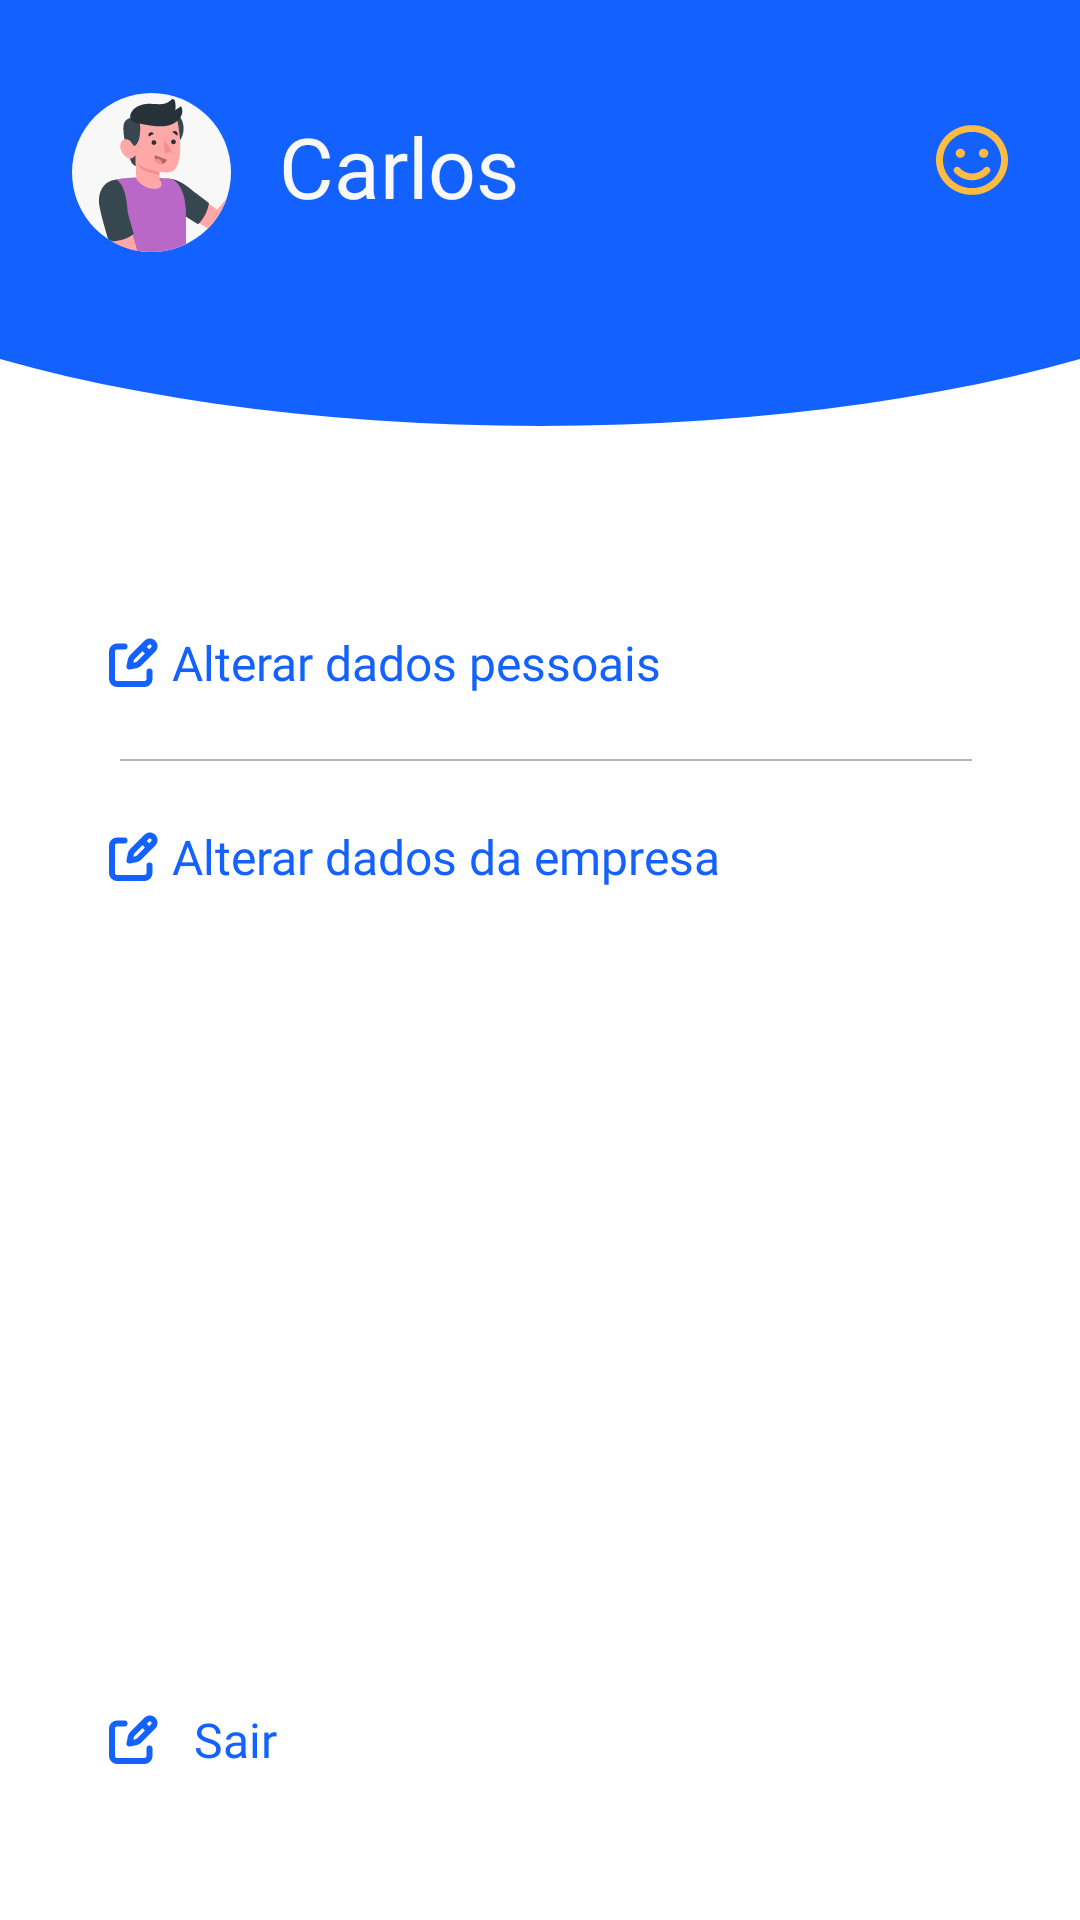

Where icons sit on this 1080 × 1920 app screen, as (x1, y1, x2, y2):
smile: (936, 125, 1008, 195)
